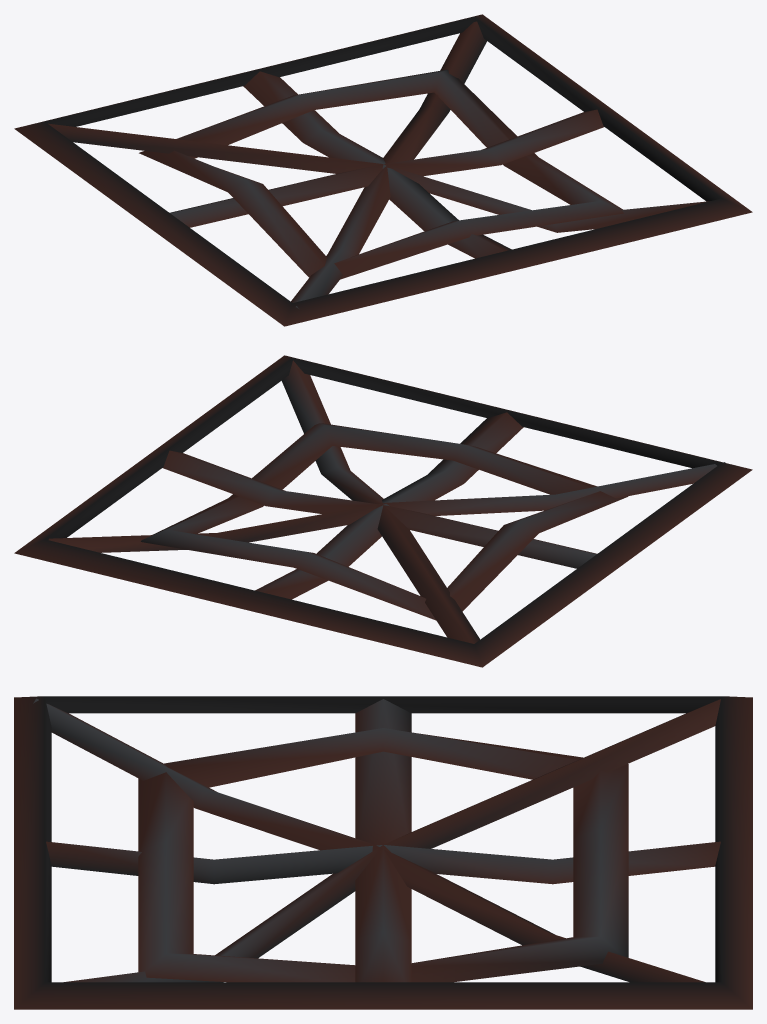
Rendered from ground2_broke.fbx.
3 views of the same model, one above another, from view 1: azimuth 30°, elevation 25°; view 2: azimuth 150°, elevation 25°; view 3: azimuth 270°, elevation 25° (orthographic). The views are drawn at different scales.
Visible parts, largest first — view 1: ground2_broke; view 2: ground2_broke; view 3: ground2_broke.
Boxes of the visible parts, x1,y1,x2,y2 form: ground2_broke: [14, 14, 752, 326]; ground2_broke: [14, 355, 752, 667]; ground2_broke: [14, 696, 752, 1009].
Bounding box in the file's own units: 1000 × 124 × 1000.
